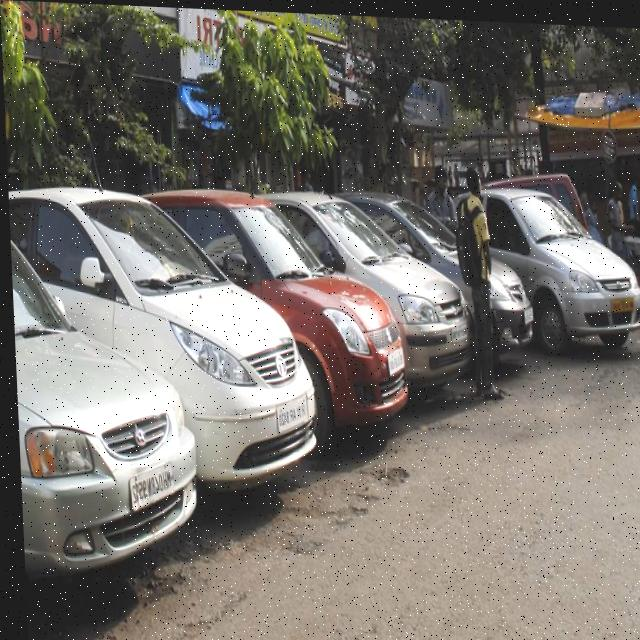plate: (121, 451, 174, 515), (266, 387, 309, 434), (382, 337, 405, 376), (607, 288, 636, 308), (445, 317, 467, 340)
